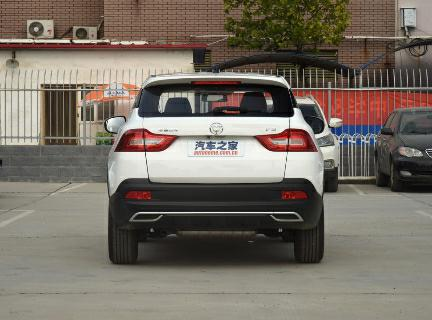??-V3: (99, 72, 335, 269)
